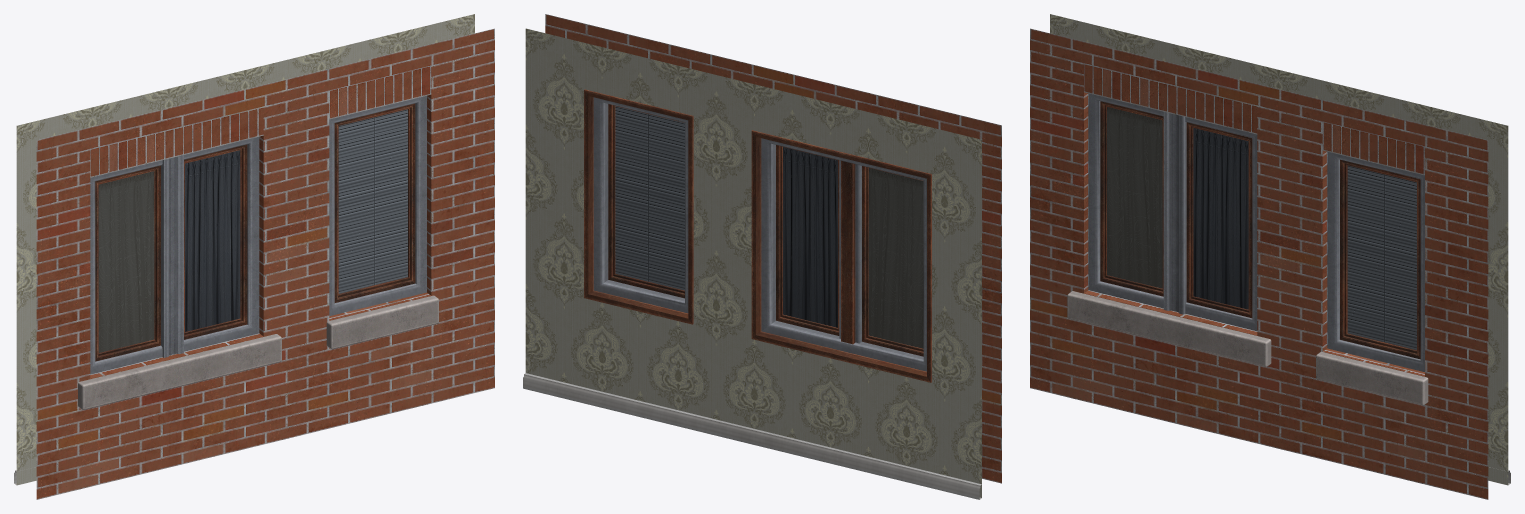
The model's file is House_05_Window_04.fbx.
3 views of the same model, side by side, from view 1: azimuth 30°, elevation 25°; view 2: azimuth 150°, elevation 25°; view 3: azimuth 330°, elevation 25° (orthographic).
Visible parts, largest first — view 1: House_05_Window_04_LOD0; view 2: House_05_Window_04_LOD0; view 3: House_05_Window_04_LOD0.
Part boxes in pixels (x1,y1,x2,y2): House_05_Window_04_LOD0: (14,14,494,499); House_05_Window_04_LOD0: (523,14,1001,499); House_05_Window_04_LOD0: (1030,14,1510,499).
Size of what is drawn, in the model's own units: 400 by 300 by 41.19.
